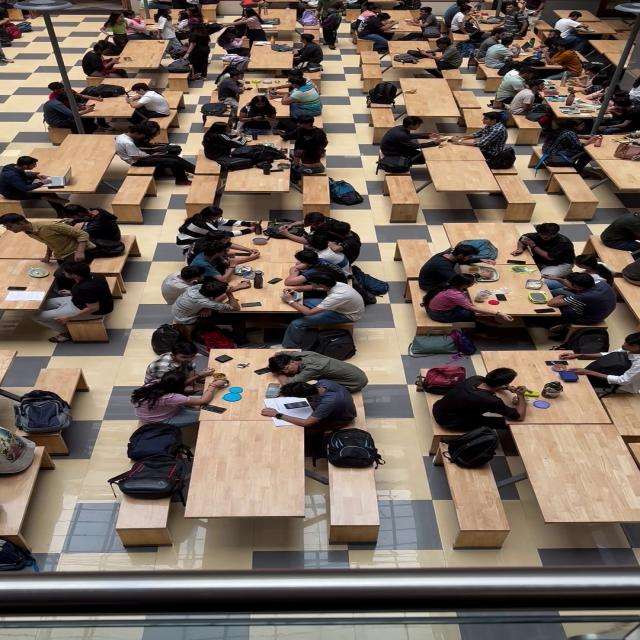Occupied: (436, 371, 550, 439), (214, 356, 311, 432), (135, 380, 228, 441), (267, 389, 366, 445), (2, 215, 104, 265), (116, 120, 196, 180), (530, 74, 612, 130), (227, 285, 332, 326), (199, 358, 331, 389), (565, 351, 640, 403), (38, 270, 116, 320), (535, 124, 601, 183), (294, 357, 382, 401), (186, 244, 271, 287), (425, 252, 500, 299), (169, 274, 251, 316), (482, 358, 604, 385), (518, 226, 586, 274), (183, 207, 268, 245), (549, 284, 623, 327), (36, 81, 96, 134), (292, 284, 371, 324), (471, 300, 576, 330), (382, 115, 440, 168), (142, 383, 206, 431), (283, 224, 366, 260), (294, 394, 364, 436), (0, 272, 69, 314), (197, 123, 257, 171), (6, 160, 69, 205), (60, 218, 134, 255), (461, 115, 515, 163), (289, 248, 353, 288), (116, 57, 180, 95), (432, 297, 494, 335), (290, 130, 338, 176), (124, 83, 172, 123), (427, 54, 476, 93), (247, 110, 291, 153), (288, 93, 333, 133), (0, 6, 35, 57), (506, 75, 549, 116), (153, 356, 207, 388), (255, 58, 308, 90), (246, 22, 289, 59), (162, 32, 198, 76), (76, 42, 121, 77), (152, 366, 204, 396), (185, 18, 214, 69), (122, 31, 163, 67), (547, 11, 584, 49), (575, 262, 620, 293), (405, 24, 457, 50), (227, 84, 263, 120), (367, 31, 402, 68), (299, 51, 334, 88), (485, 46, 525, 78), (321, 0, 350, 44), (232, 39, 268, 69), (150, 0, 180, 33), (548, 46, 582, 75), (452, 16, 483, 47), (408, 91, 461, 109), (523, 8, 556, 36), (354, 0, 382, 26), (12, 0, 36, 28), (103, 12, 135, 33), (574, 21, 613, 36), (296, 0, 321, 22), (371, 0, 405, 14)
Unoccupied: (517, 436, 640, 539), (199, 432, 312, 532), (450, 472, 513, 555), (325, 472, 381, 550), (1, 478, 47, 568), (117, 498, 180, 560), (407, 93, 472, 142), (423, 163, 505, 199), (221, 168, 292, 209), (554, 174, 604, 218), (493, 177, 541, 222), (109, 174, 156, 218), (34, 368, 90, 402), (50, 138, 125, 163), (443, 220, 523, 242), (612, 400, 640, 458), (384, 179, 420, 224), (394, 237, 433, 277), (392, 188, 434, 222), (188, 176, 225, 214), (412, 110, 471, 132), (604, 160, 636, 196), (302, 174, 332, 212), (594, 41, 636, 68), (507, 191, 543, 220), (460, 105, 491, 136), (165, 84, 187, 110), (380, 121, 404, 143), (473, 124, 495, 142)
